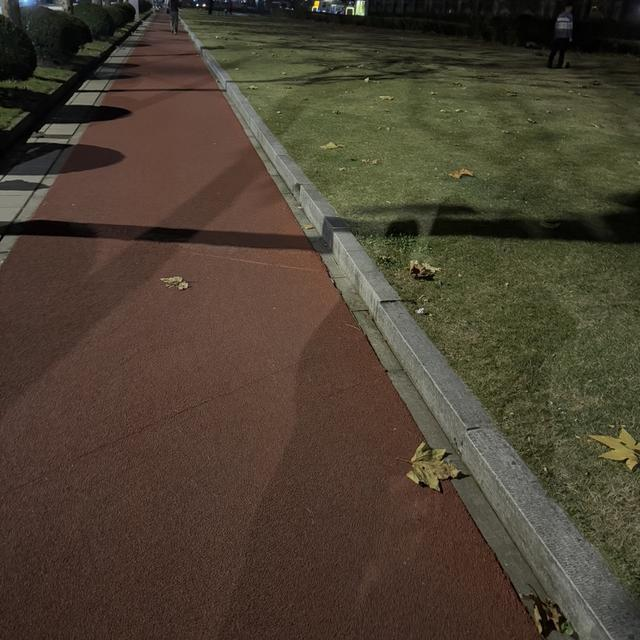curb: (186, 25, 639, 639), (0, 21, 138, 164)
